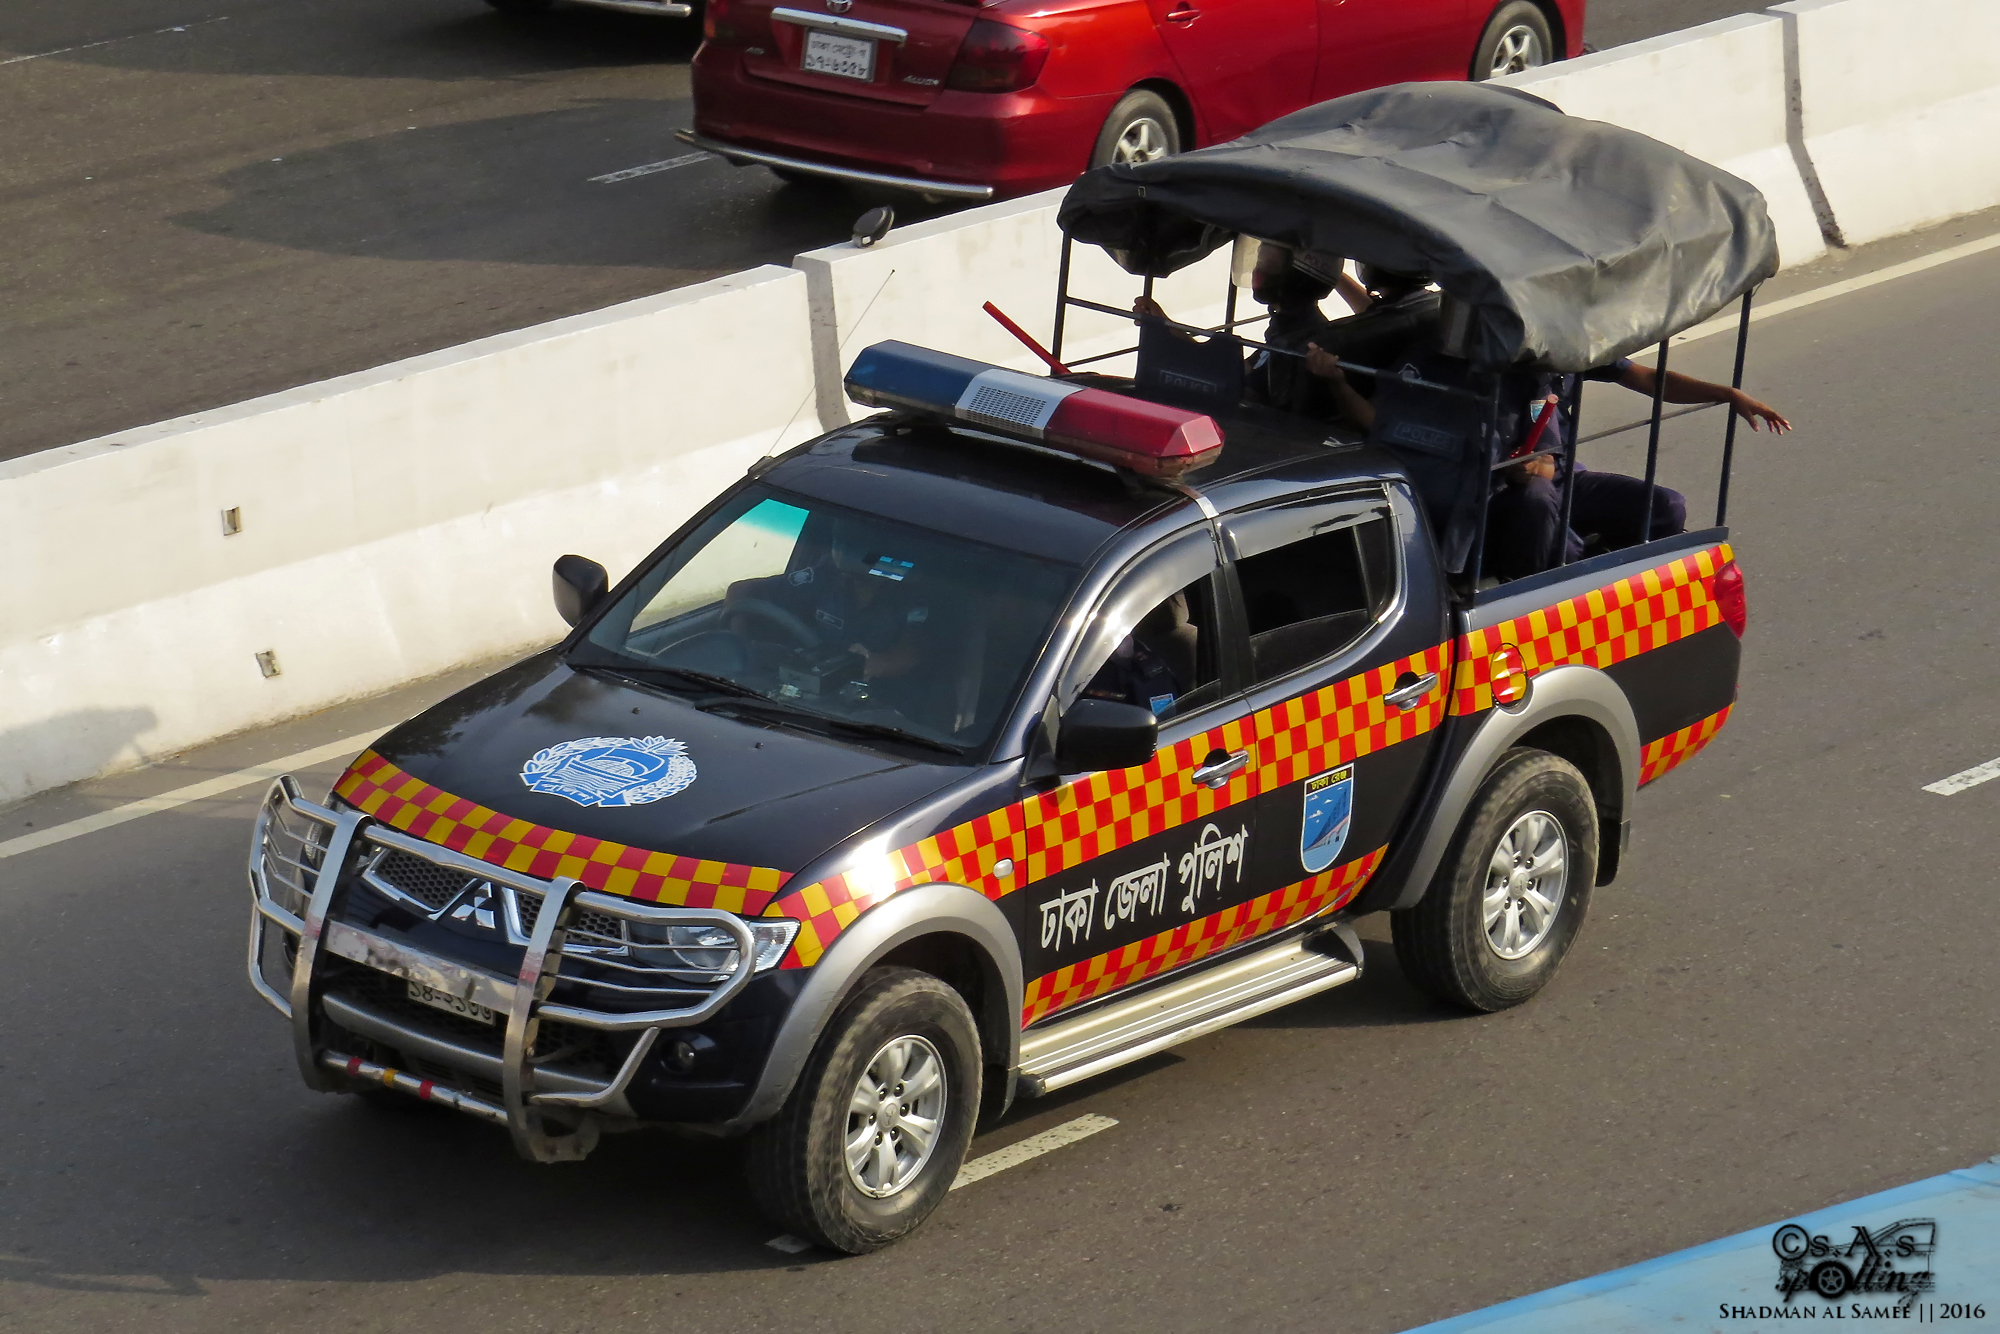car: (673, 1, 1589, 200)
policecar: (231, 68, 1783, 1251)
